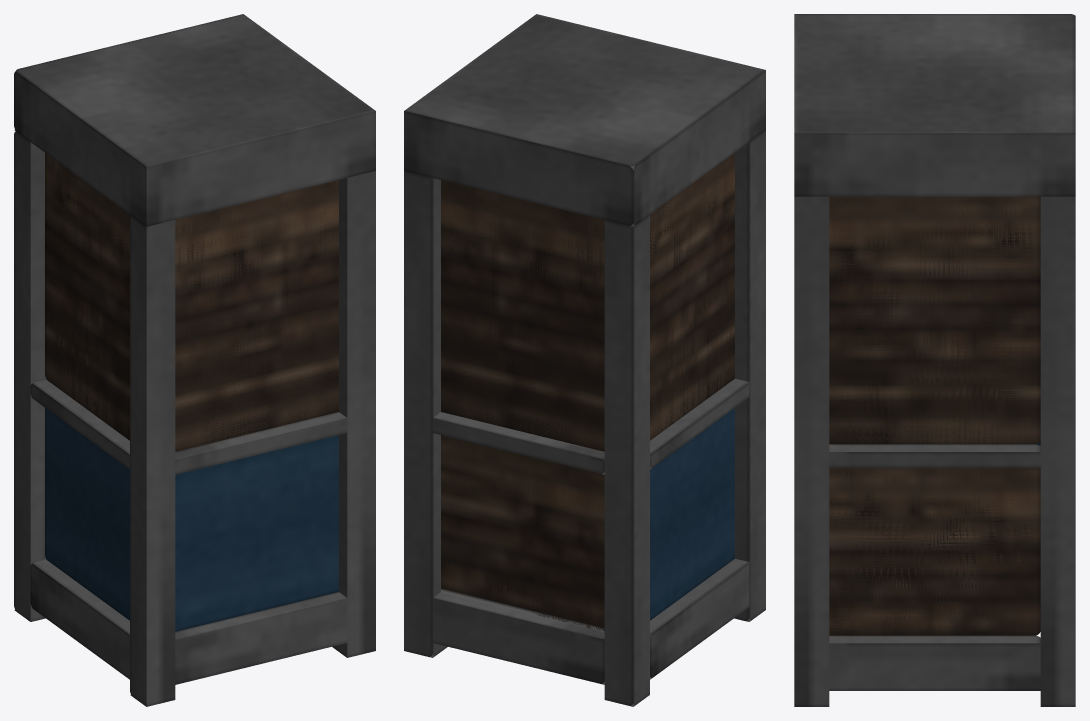
Rendered from phonebox.obj.
3 views of the same model, side by side, from view 1: azimuth 30°, elevation 25°; view 2: azimuth 150°, elevation 25°; view 3: azimuth 270°, elevation 25° (orthographic). The views are drawn at different scales.
Visible parts, largest first — view 1: lm, lv, lt, lk, lw, ll, lj, ls, lq, lr, ln, qq; view 2: lm, lx, ly, lj, lw, li, lk, ls, lo, lr, qr, qq; view 3: lA, lm, lz, li, ll, lp, qp.
Boxes of the visible parts, x1,y1,x2,y2 form: lm: (14,14,375,226); lv: (175,180,338,451); lt: (175,435,338,631); lk: (130,216,175,706); lw: (45,153,130,440); ll: (332,171,375,657); lj: (14,131,46,621); ls: (45,408,129,620); lq: (175,592,347,684); lr: (30,558,129,679); ln: (175,412,347,474); qq: (30,378,129,469); lm: (404,14,765,226); lx: (441,180,604,451); ly: (441,435,604,631); lj: (604,215,649,706); lw: (650,153,734,440); li: (404,171,447,657); lk: (734,130,765,621); ls: (650,408,734,620); lo: (432,592,604,684); lr: (650,558,749,679); qr: (432,412,604,474); qq: (650,378,749,469); lA: (829,196,1040,444); lm: (794,14,1075,196); lz: (829,467,1040,635); li: (1040,196,1075,706); ll: (794,196,829,706); lp: (829,635,1040,690); qp: (829,444,1040,467).
Size of the model in its own units: 1 by 2.25 by 1.
1 material, 1 textured.
